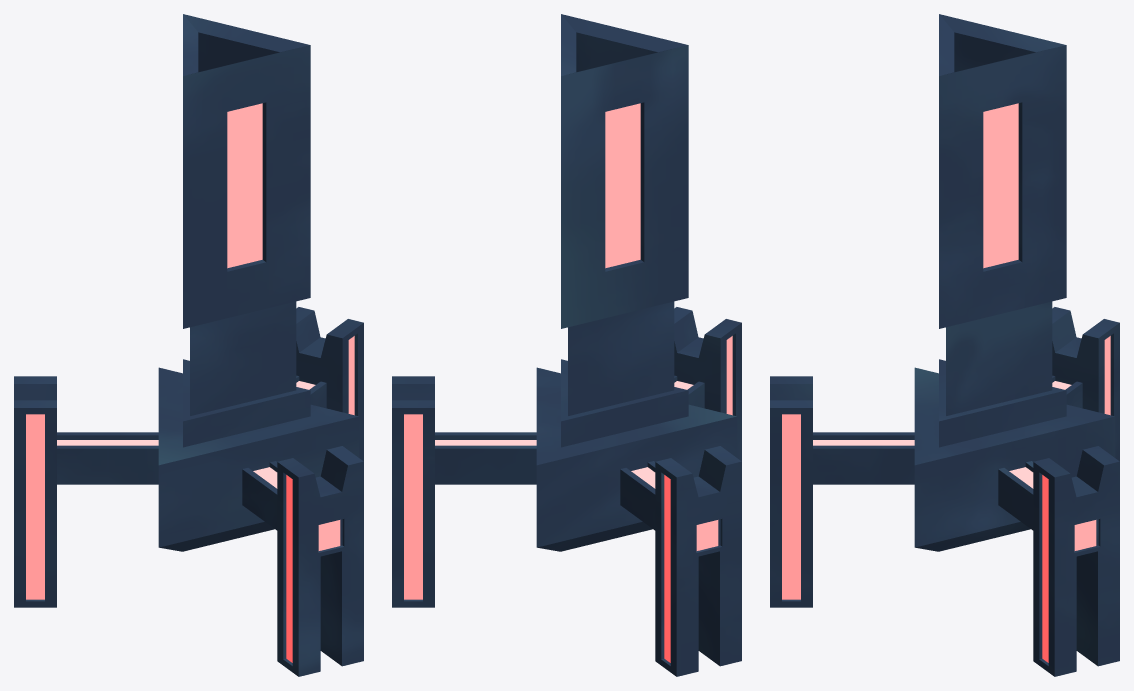
File: sos_beacon.glb
The picture shows the model from 3 angles, left to right: view 1: azimuth 30°, elevation 25°; view 2: azimuth 150°, elevation 25°; view 3: azimuth 270°, elevation 25°; orthographic projection.
Visible parts, largest first — view 1: SOS_Beacon; view 2: SOS_Beacon; view 3: SOS_Beacon.
Boxes of the visible parts, box(x1,y1,x2,y2) form: SOS_Beacon: box(14, 14, 363, 676); SOS_Beacon: box(392, 14, 741, 676); SOS_Beacon: box(770, 14, 1119, 676).
Bounding box in the file's own units: 0.6043 × 0.9022 × 0.5233.
Materials: 2 (1 with a texture image).
